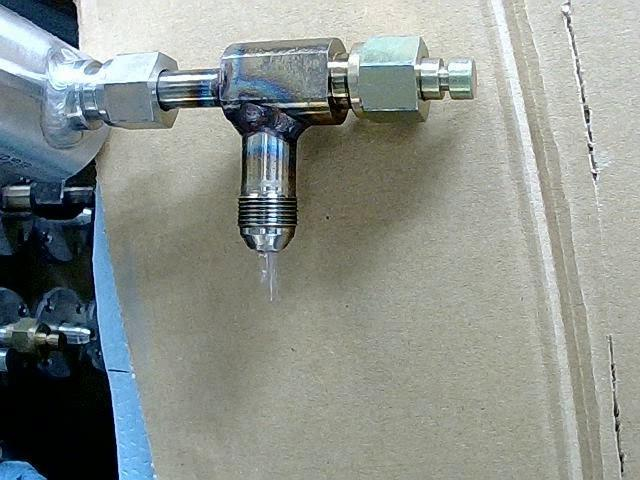water drop: (258, 252, 280, 302)
